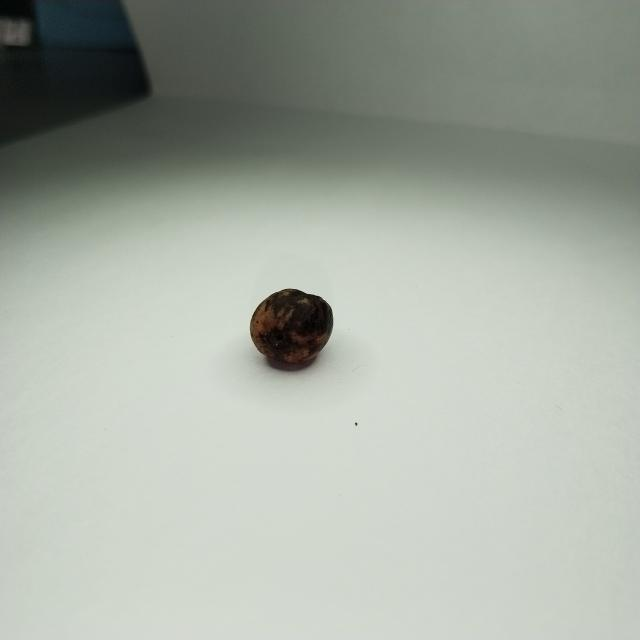Infectado: (249, 289, 336, 374)
